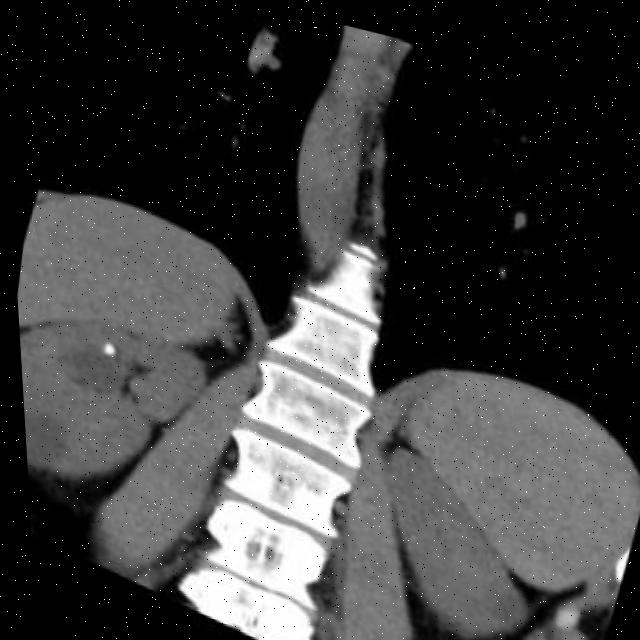Tas_Var: (89, 332, 116, 360)
